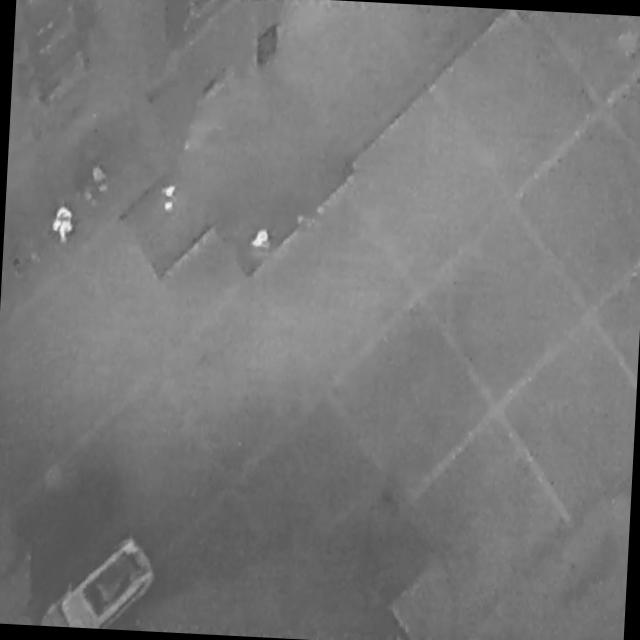person: (51, 207, 76, 243), (250, 224, 272, 253), (161, 184, 178, 214)
